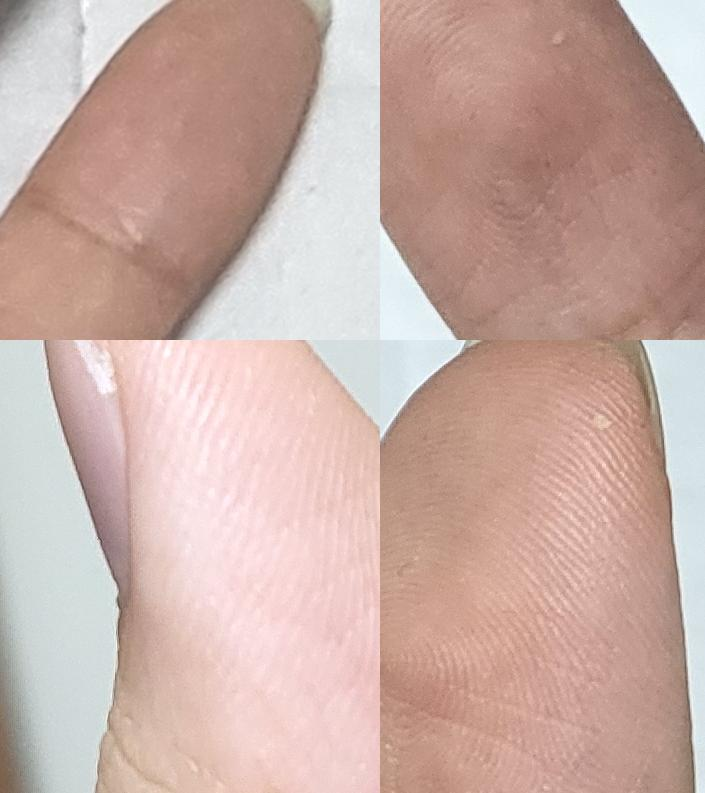Fingerprints: (380, 340, 695, 793), (96, 340, 380, 793), (380, 0, 705, 340), (19, 0, 322, 294)
